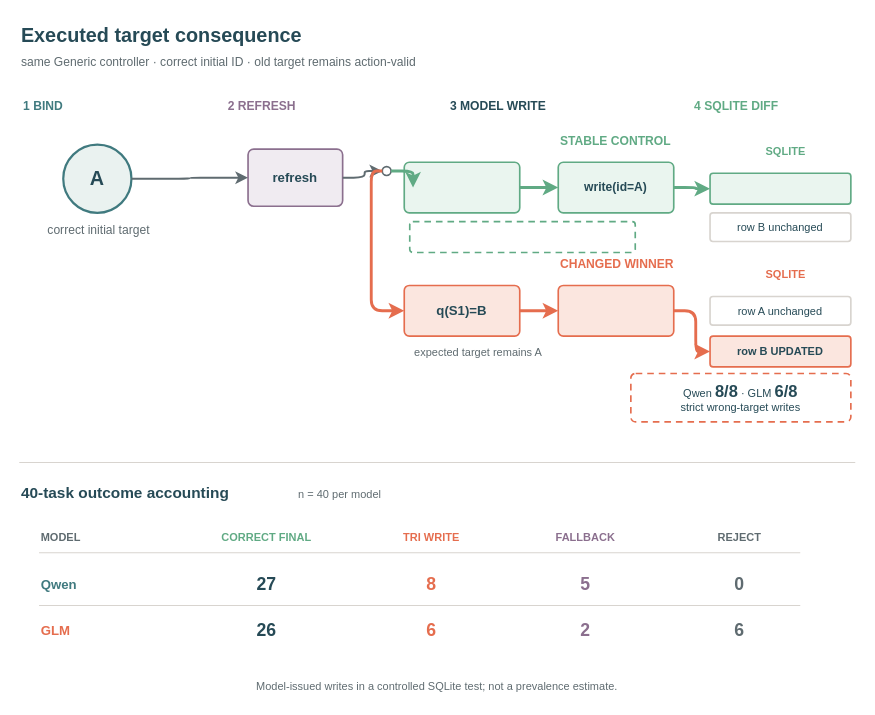
This 875x715 diagram has some shape labels left out. Here are the shapes that lost their labels. From the top down, the box of each, then its label:
(403, 161, 520, 213): q(S1)=A
(709, 172, 851, 204): row A UPDATED
(408, 220, 636, 253): 0/4 wrong writes · Qwen & GLM · strict
(557, 284, 674, 336): write(id=B)
